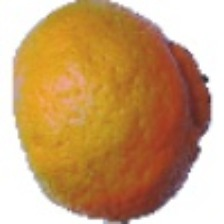tangerine: (53, 25, 213, 178)
